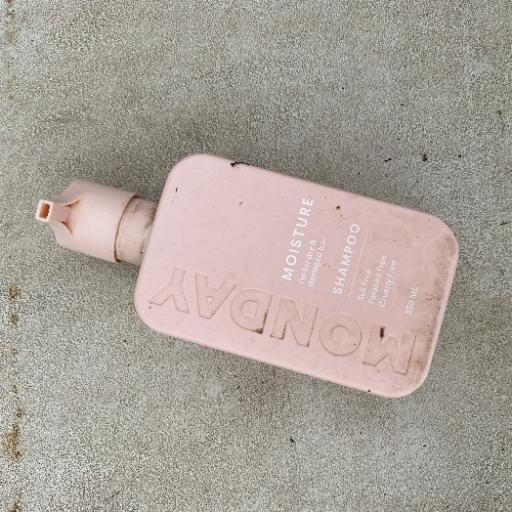Plastic: (33, 150, 462, 400)
